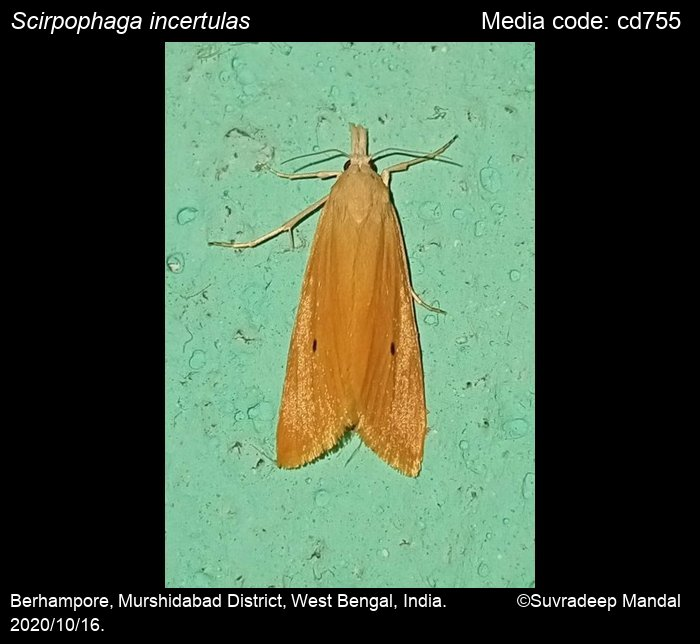Crambidae: (204, 121, 468, 477)
